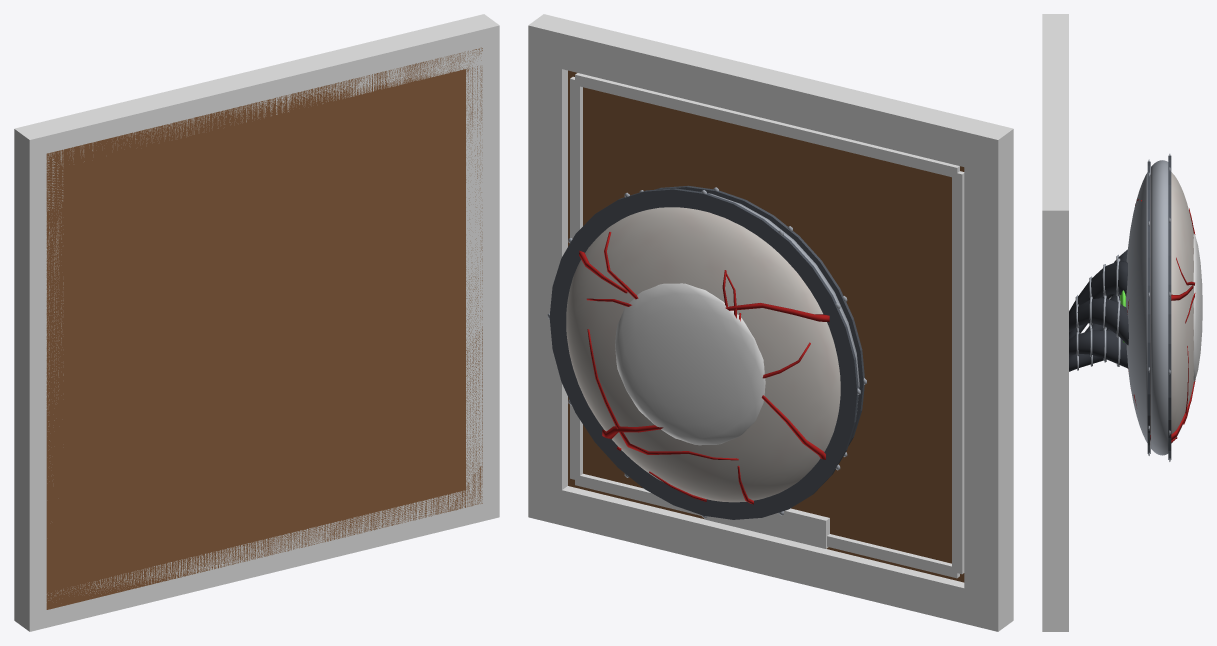
The model's file is spazmatism_trophy_v0.glb.
The picture shows the model from 3 angles, left to right: view 1: azimuth 30°, elevation 25°; view 2: azimuth 150°, elevation 25°; view 3: azimuth 270°, elevation 25°; orthographic projection. The views are drawn at different scales.
Visible parts, largest first — view 1: spazmatism_trophy_v0; view 2: spazmatism_trophy_v0; view 3: spazmatism_trophy_v0.
Part boxes in pixels (x1,y1,x2,y2): spazmatism_trophy_v0: (14, 14, 499, 631); spazmatism_trophy_v0: (528, 14, 1013, 631); spazmatism_trophy_v0: (1042, 14, 1202, 631).
Bounding box in the file's own units: 1.39 × 1.39 × 0.48.
